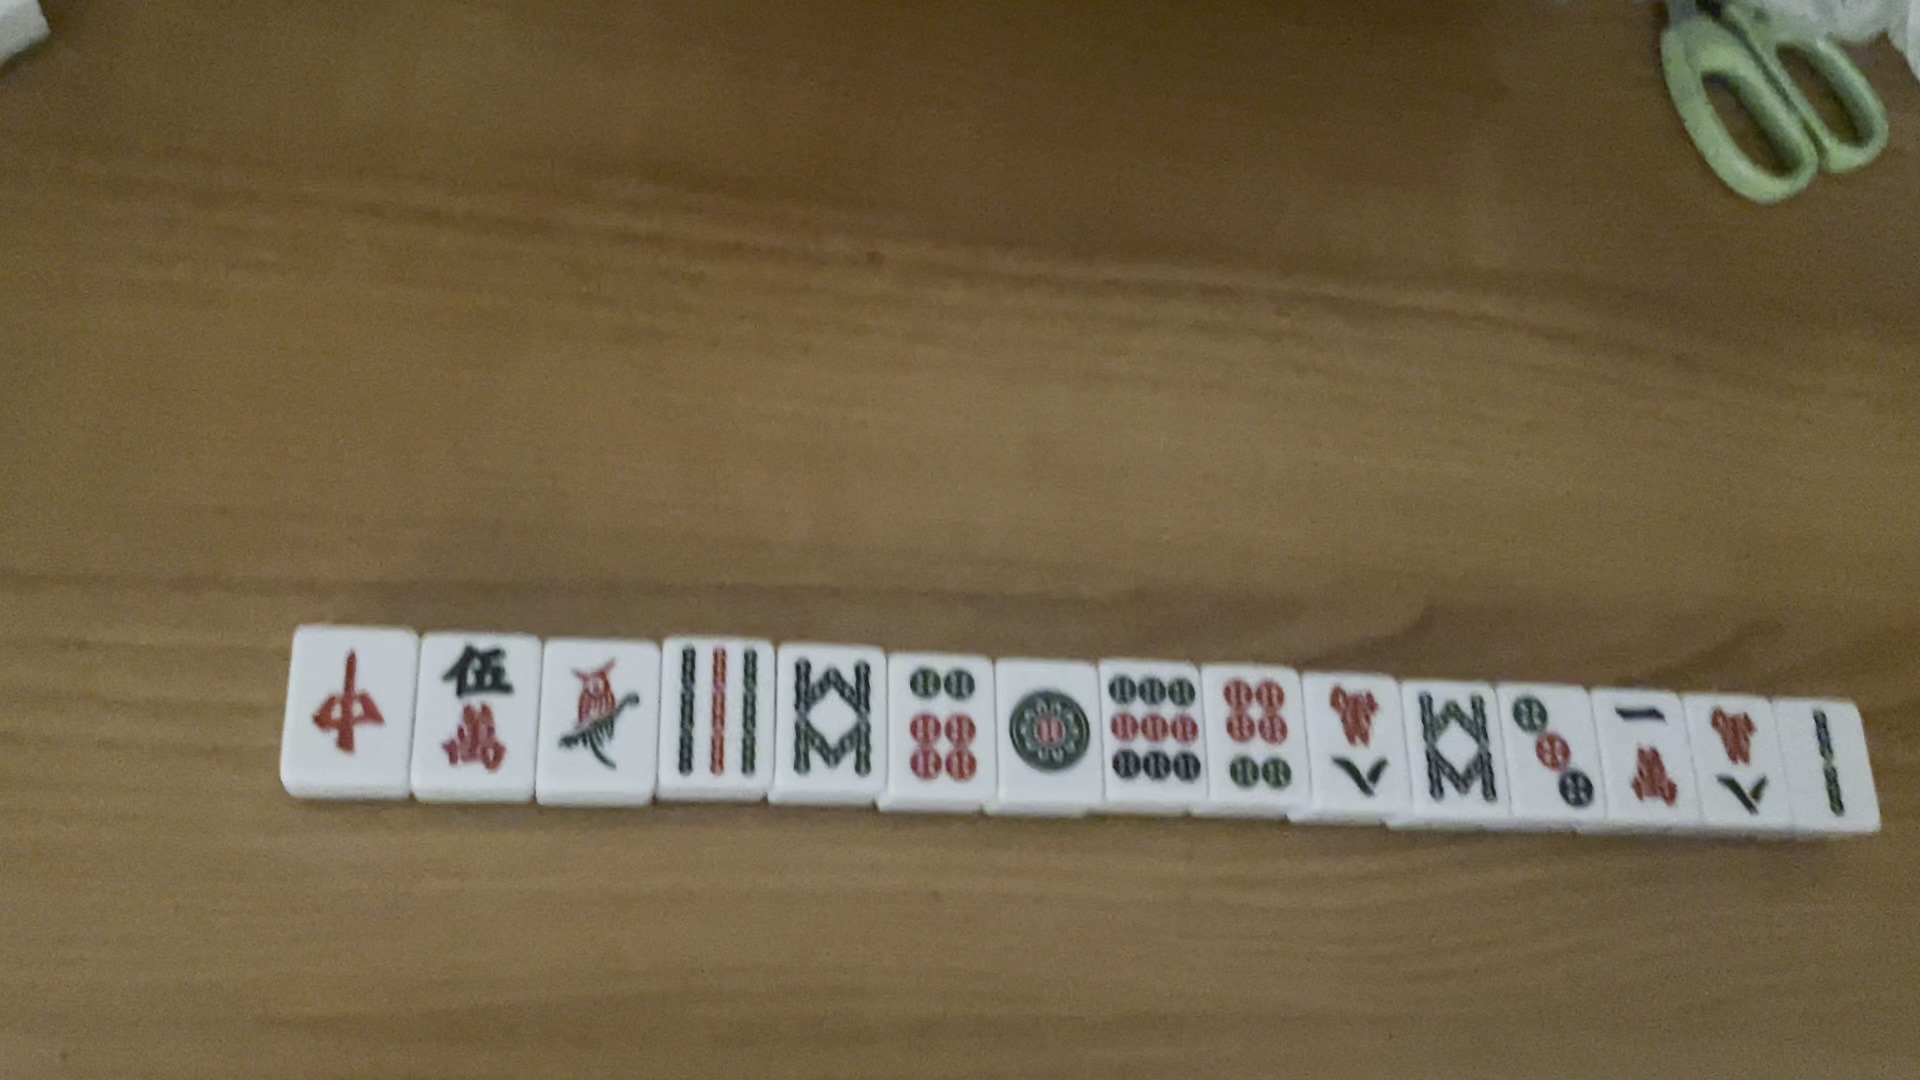b-1: (545, 650, 651, 782)
b-2: (1807, 702, 1847, 828)
b-8: (781, 647, 884, 782), (1410, 688, 1503, 814)
b-9: (671, 641, 764, 775)
c-1: (1609, 702, 1687, 808)
c-5: (415, 638, 527, 783)
c-8: (1700, 702, 1783, 822), (1320, 675, 1396, 804)
d-1: (1004, 688, 1091, 775)
d-3: (1509, 684, 1597, 814)
d-6: (1204, 676, 1300, 796), (902, 663, 986, 789)
d-9: (1102, 666, 1203, 789)
honors-red: (297, 640, 393, 773)
